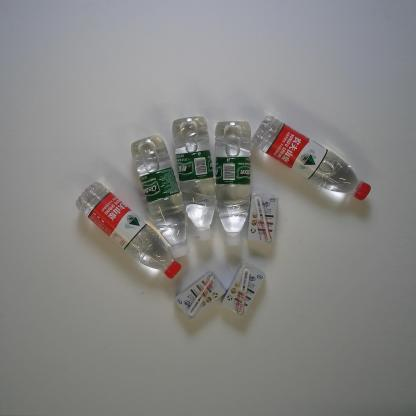Drink: (75, 180, 182, 281), (250, 113, 372, 201), (128, 134, 191, 259), (169, 115, 217, 243), (212, 118, 254, 247)
Milk: (174, 269, 228, 323), (218, 260, 266, 319), (246, 192, 280, 245)
